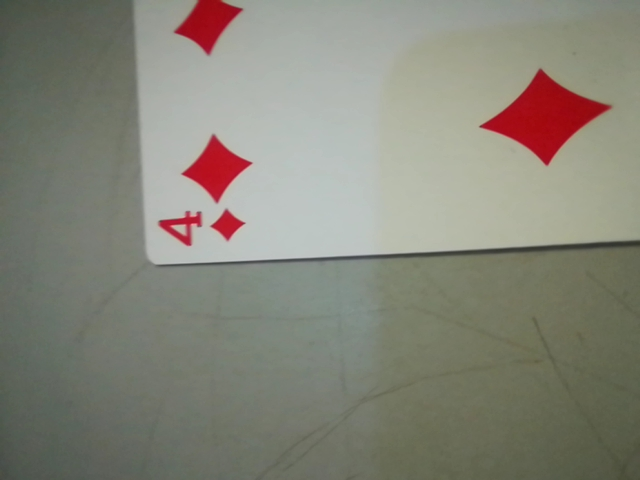fk 4: (149, 209, 258, 250)
